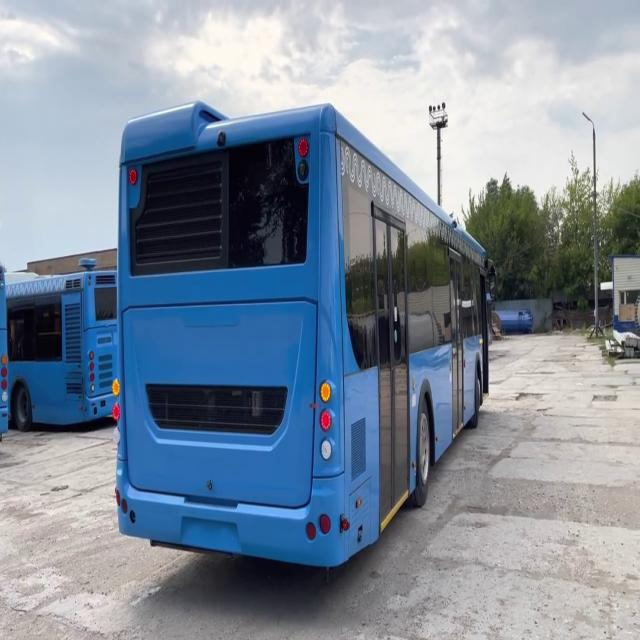bus: (114, 96, 500, 578)
